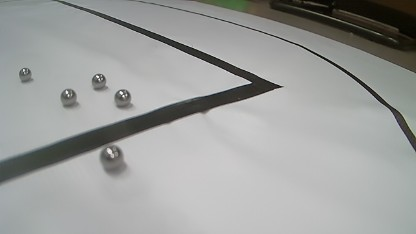ironball: (100, 145, 124, 170), (114, 89, 131, 106), (60, 89, 77, 106), (91, 73, 106, 89), (19, 67, 31, 81)
